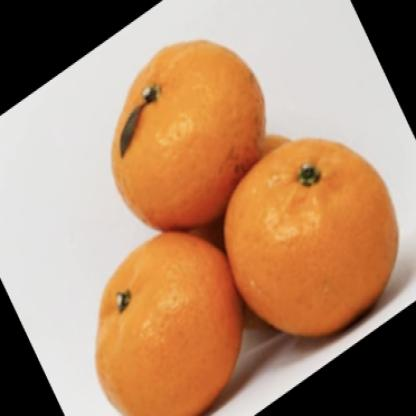fresh: (95, 43, 399, 416)
